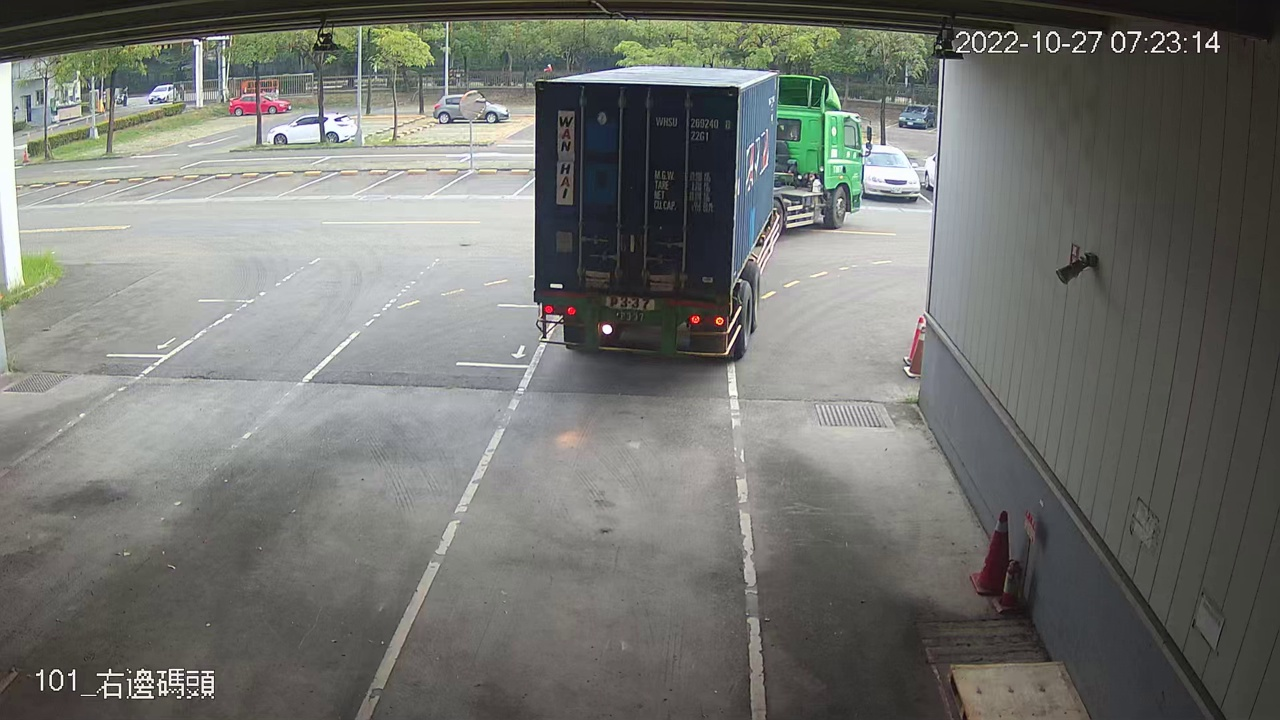container: (649, 107, 736, 150)
